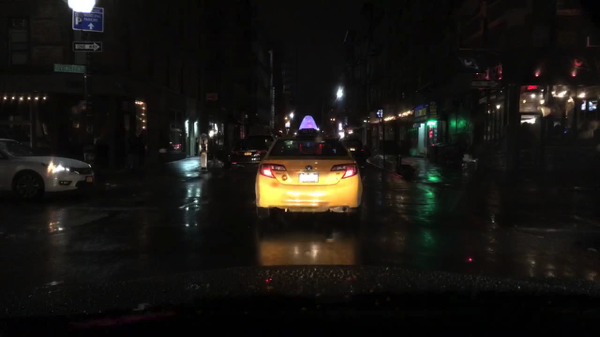car: (254, 115, 363, 221), (0, 139, 96, 203), (228, 132, 276, 167), (339, 134, 367, 162)
traffic sign: (73, 8, 104, 32), (73, 40, 102, 53), (54, 64, 88, 75), (471, 81, 498, 90), (476, 95, 495, 107), (205, 92, 217, 102)
